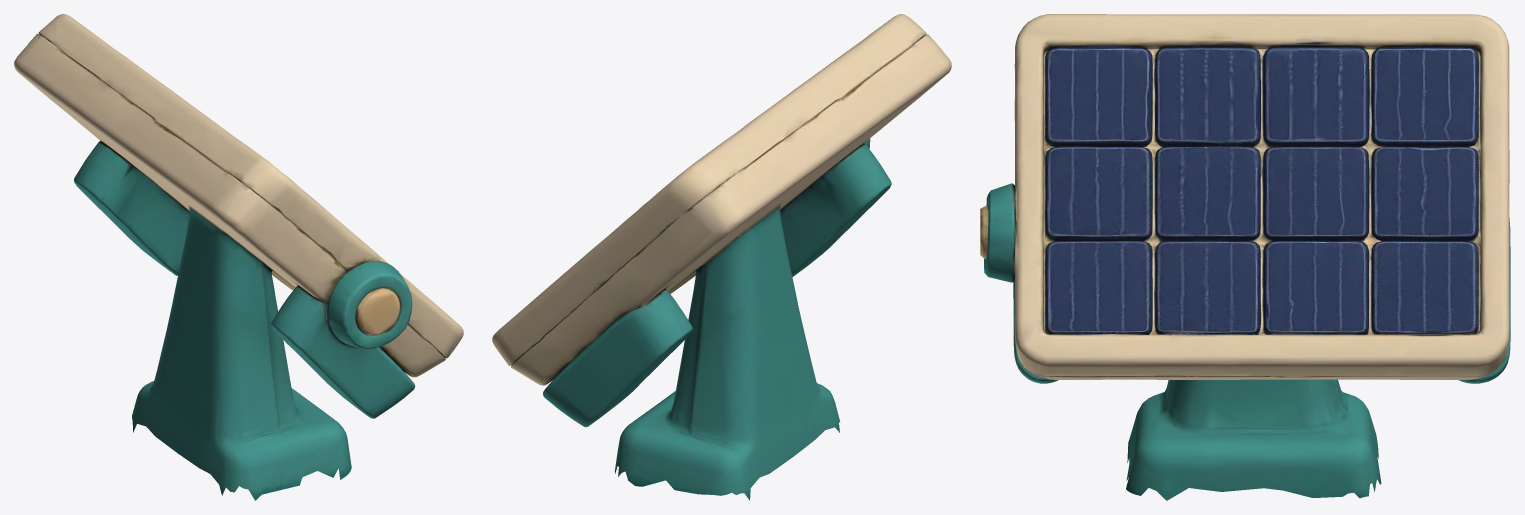
Rendered from solar.glb.
The picture shows the model from 3 angles, left to right: view 1: azimuth 30°, elevation 25°; view 2: azimuth 150°, elevation 25°; view 3: azimuth 270°, elevation 25°; orthographic projection. The views are drawn at different scales.
Visible parts, largest first — view 1: tripo_node_af527cbc-9b22-45e0-bdb6-7ef294fb810b; view 2: tripo_node_af527cbc-9b22-45e0-bdb6-7ef294fb810b; view 3: tripo_node_af527cbc-9b22-45e0-bdb6-7ef294fb810b.
Boxes of the visible parts, <box> form: tripo_node_af527cbc-9b22-45e0-bdb6-7ef294fb810b: <box>14,14,463,500</box>; tripo_node_af527cbc-9b22-45e0-bdb6-7ef294fb810b: <box>492,14,951,500</box>; tripo_node_af527cbc-9b22-45e0-bdb6-7ef294fb810b: <box>980,14,1510,500</box>.
Size of the model in its own units: 0.5726 by 0.8366 by 0.9725.
1 material, 1 textured.
